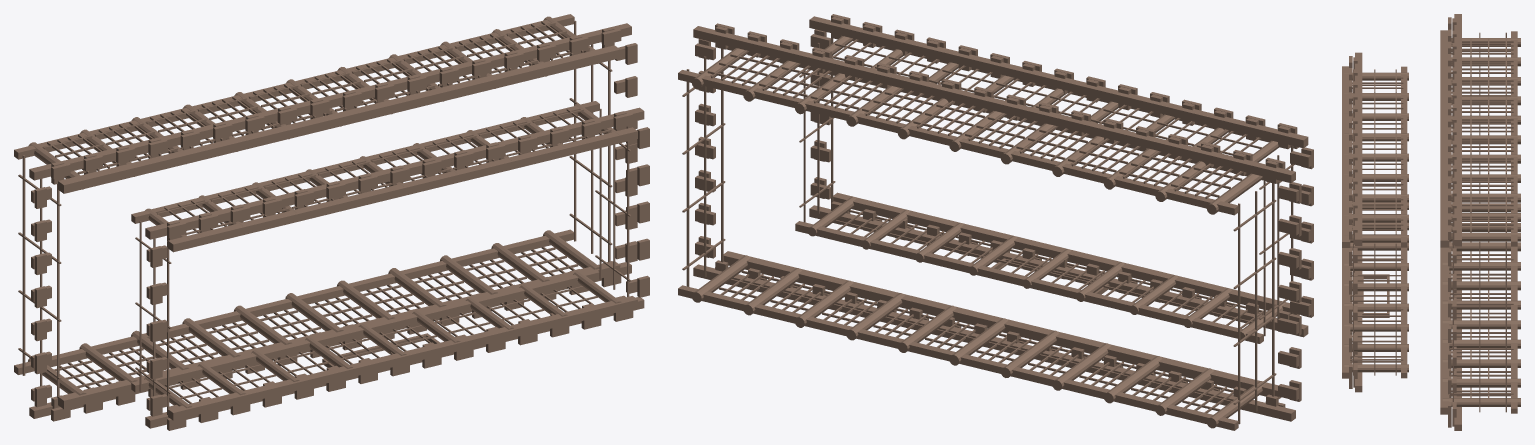
File: SM_Zhengximen_DarkTimber.glb
3 views of the same model, side by side, from view 1: azimuth 30°, elevation 25°; view 2: azimuth 150°, elevation 25°; view 3: azimuth 270°, elevation 25° (orthographic). The views are drawn at different scales.
Visible parts, largest first — view 1: geometry_0; view 2: geometry_0; view 3: geometry_0.
Part boxes in pixels (bbox=[...]): geometry_0: bbox=[14, 14, 649, 430]; geometry_0: bbox=[678, 14, 1313, 430]; geometry_0: bbox=[1342, 14, 1520, 430].
Size of the model in its own units: 20.32 by 8.18 by 6.76.
